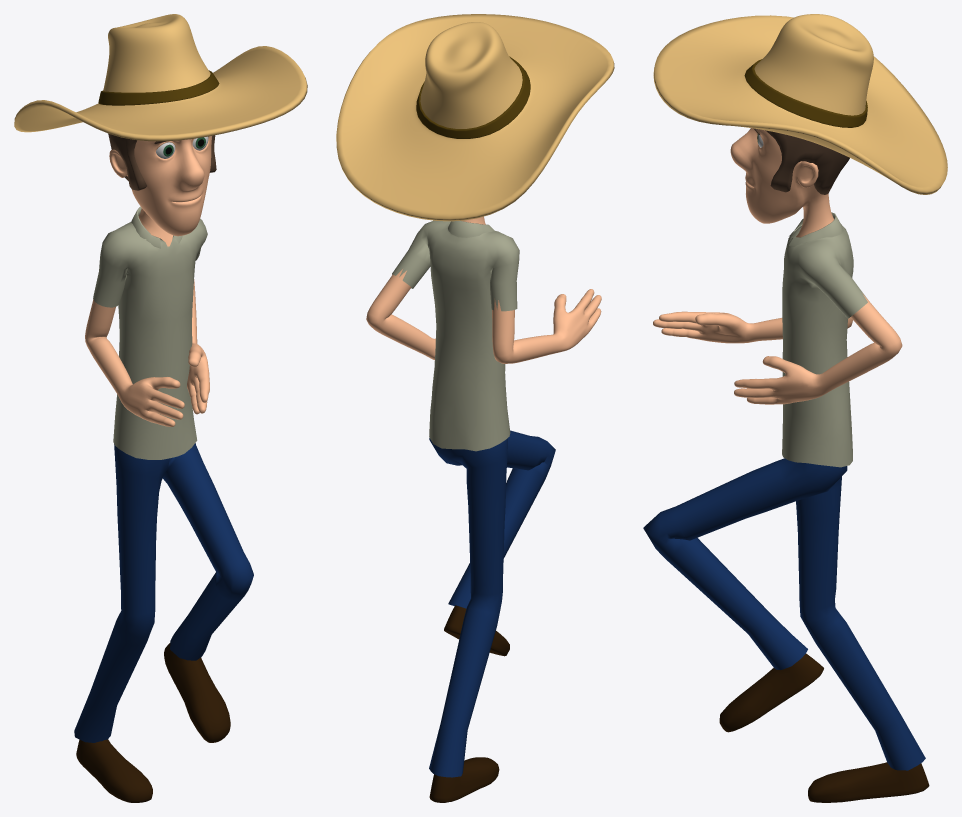
File: GuyRun4.obj
3 views of the same model, side by side, from view 1: azimuth 30°, elevation 25°; view 2: azimuth 150°, elevation 25°; view 3: azimuth 270°, elevation 25° (orthographic). The views are drawn at different scales.
Bounding box in the file's own units: 2.18 × 7.15 × 2.52.
